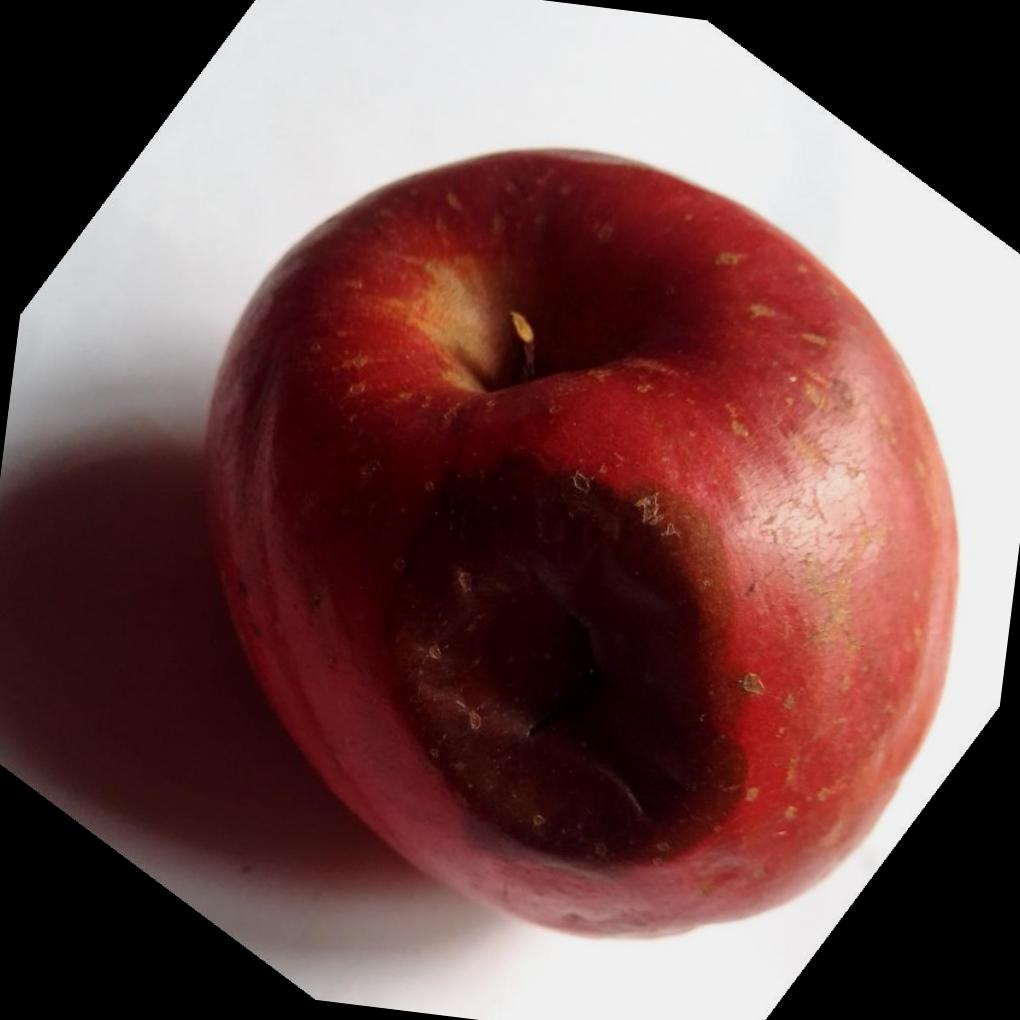FreshOrange: (197, 148, 971, 946)
